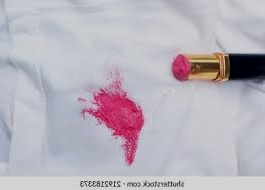lipstick: (89, 84, 146, 163)
